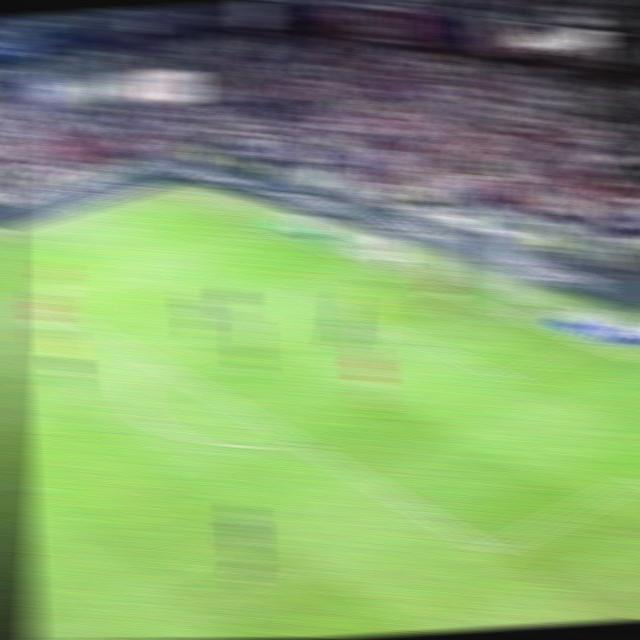bigarea_bottom_inner: (472, 533, 512, 565)
bigarea_top_outter: (256, 220, 287, 238)
bottom_arc_area_intersection: (286, 432, 321, 455)
corner: (152, 184, 186, 200)
smallarea_bottom_inner: (492, 362, 528, 392)
smallarea_bottom_outter: (574, 334, 607, 354)
smallarea_top_inner: (286, 281, 317, 300)
smallarea_top_outter: (352, 255, 389, 276)
top_arc_area_intersection: (133, 348, 165, 370)
